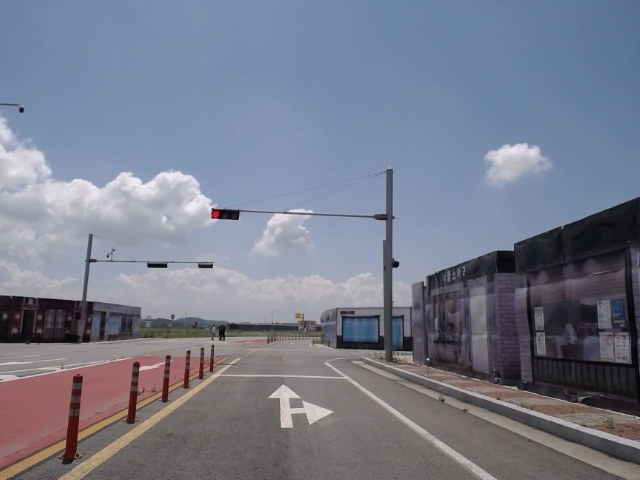red_3: (209, 208, 239, 220)
